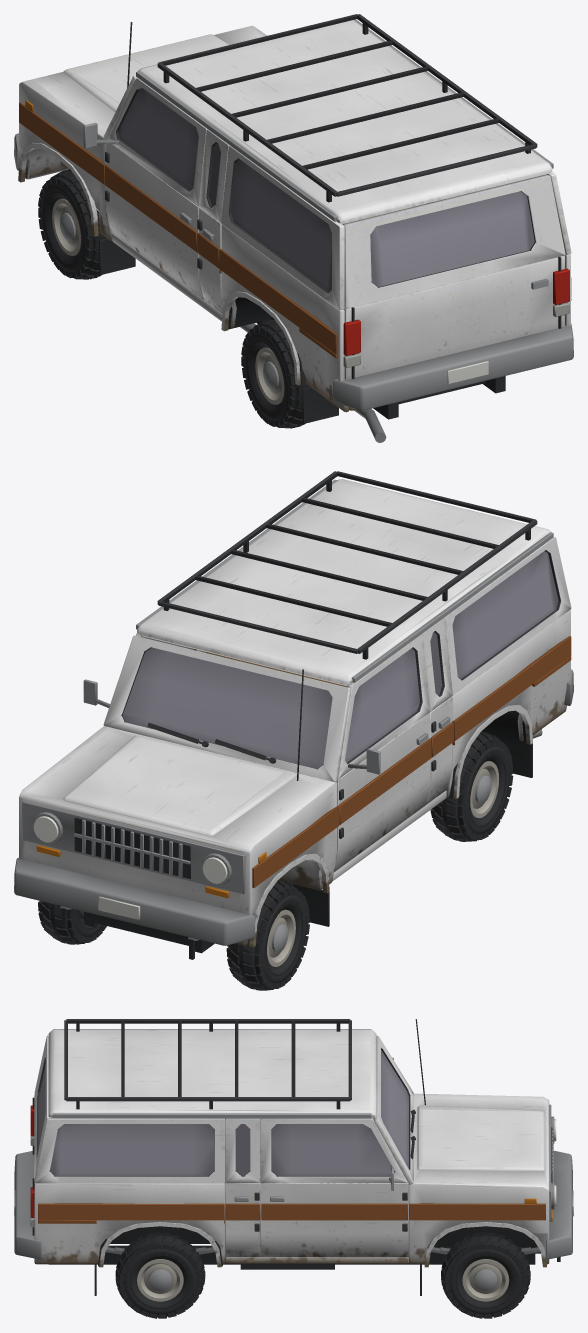
The model's file is grandwagon.m.glb.
3 views of the same model, one above another, from view 1: azimuth 30°, elevation 25°; view 2: azimuth 150°, elevation 25°; view 3: azimuth 270°, elevation 25° (orthographic). The views are drawn at different scales.
Parts seen in each view (by area): view 1: body, door_FL, wheel_FL, wheel_RL, door_RL; view 2: body, door_FL, wheel_FL, wheel_RL, door_RL, wheel_FR; view 3: body, door_FR, wheel_RR, wheel_FR, door_RR.
Boxes of the visible parts, x1=… form: body: x1=14, y1=14, x2=573, y2=442; door_FL: x1=83, y1=78, x2=207, y2=299; wheel_FL: x1=38, y1=169, x2=106, y2=279; wheel_RL: x1=241, y1=318, x2=309, y2=428; door_RL: x1=197, y1=129, x2=229, y2=313; body: x1=14, y1=471, x2=573, y2=959; door_FL: x1=334, y1=634, x2=431, y2=871; wheel_FL: x1=226, y1=880, x2=309, y2=990; wheel_RL: x1=430, y1=731, x2=513, y2=841; door_RL: x1=421, y1=618, x2=453, y2=804; wheel_FR: x1=38, y1=901, x2=106, y2=944; body: x1=14, y1=1019, x2=573, y2=1295; door_FR: x1=260, y1=1118, x2=408, y2=1257; wheel_RR: x1=115, y1=1232, x2=205, y2=1318; wheel_FR: x1=441, y1=1232, x2=530, y2=1318; door_RR: x1=225, y1=1118, x2=260, y2=1257.
Bounding box in the file's own units: 2.32 × 2.12 × 4.75.
Materials: 17 (1 with a texture image).
